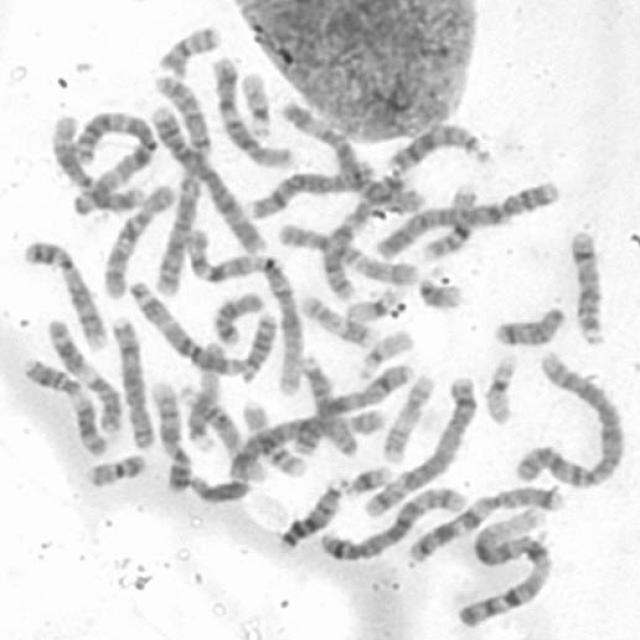A1: (178, 225, 306, 396), (451, 494, 552, 630)
A2: (510, 352, 626, 488), (146, 70, 214, 298)
A3: (124, 275, 275, 379), (60, 108, 156, 216)
B4: (147, 98, 270, 256), (368, 176, 563, 262)
B5: (358, 370, 480, 520), (316, 482, 470, 562)
C10: (274, 222, 419, 285), (99, 182, 176, 300)
C11: (44, 316, 125, 437), (19, 354, 109, 456)
C12: (207, 52, 297, 170), (46, 112, 151, 212)
C6: (276, 96, 428, 217), (224, 405, 387, 485)
C7: (315, 163, 412, 303), (403, 483, 563, 565)
C8: (243, 157, 380, 222), (106, 312, 156, 452)
C9: (19, 234, 109, 352), (146, 376, 194, 494)
D13: (382, 119, 494, 175), (274, 473, 350, 552)
D14: (174, 384, 270, 484), (564, 225, 610, 349)
D15: (294, 350, 360, 459), (181, 338, 228, 453)
E16: (238, 399, 310, 479), (418, 180, 481, 263)
E17: (378, 368, 438, 465), (296, 293, 379, 348)
E18: (489, 302, 567, 349), (210, 290, 266, 346)
F19: (480, 350, 520, 426), (341, 282, 407, 326)
F20: (153, 20, 223, 76), (84, 450, 148, 488)
G21: (338, 461, 394, 498), (414, 270, 465, 310)
G22: (354, 326, 414, 380), (236, 66, 275, 140)
X: (289, 360, 417, 458)
Y: (185, 471, 252, 505)
